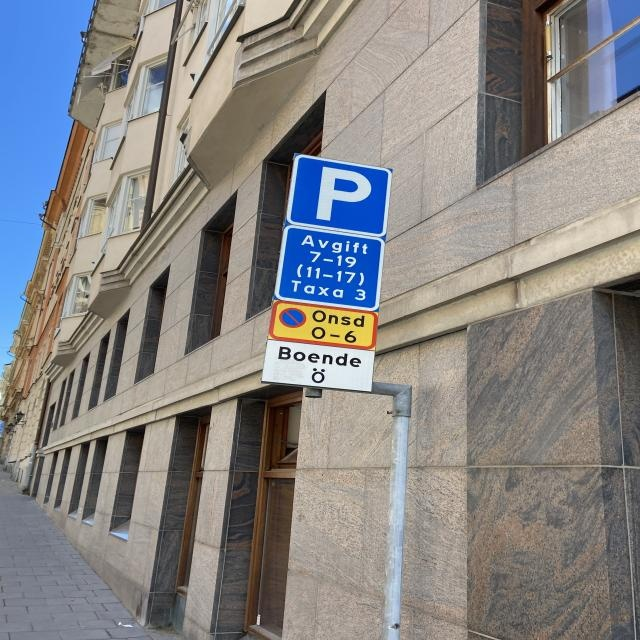P-skylt: (288, 151, 394, 239)
